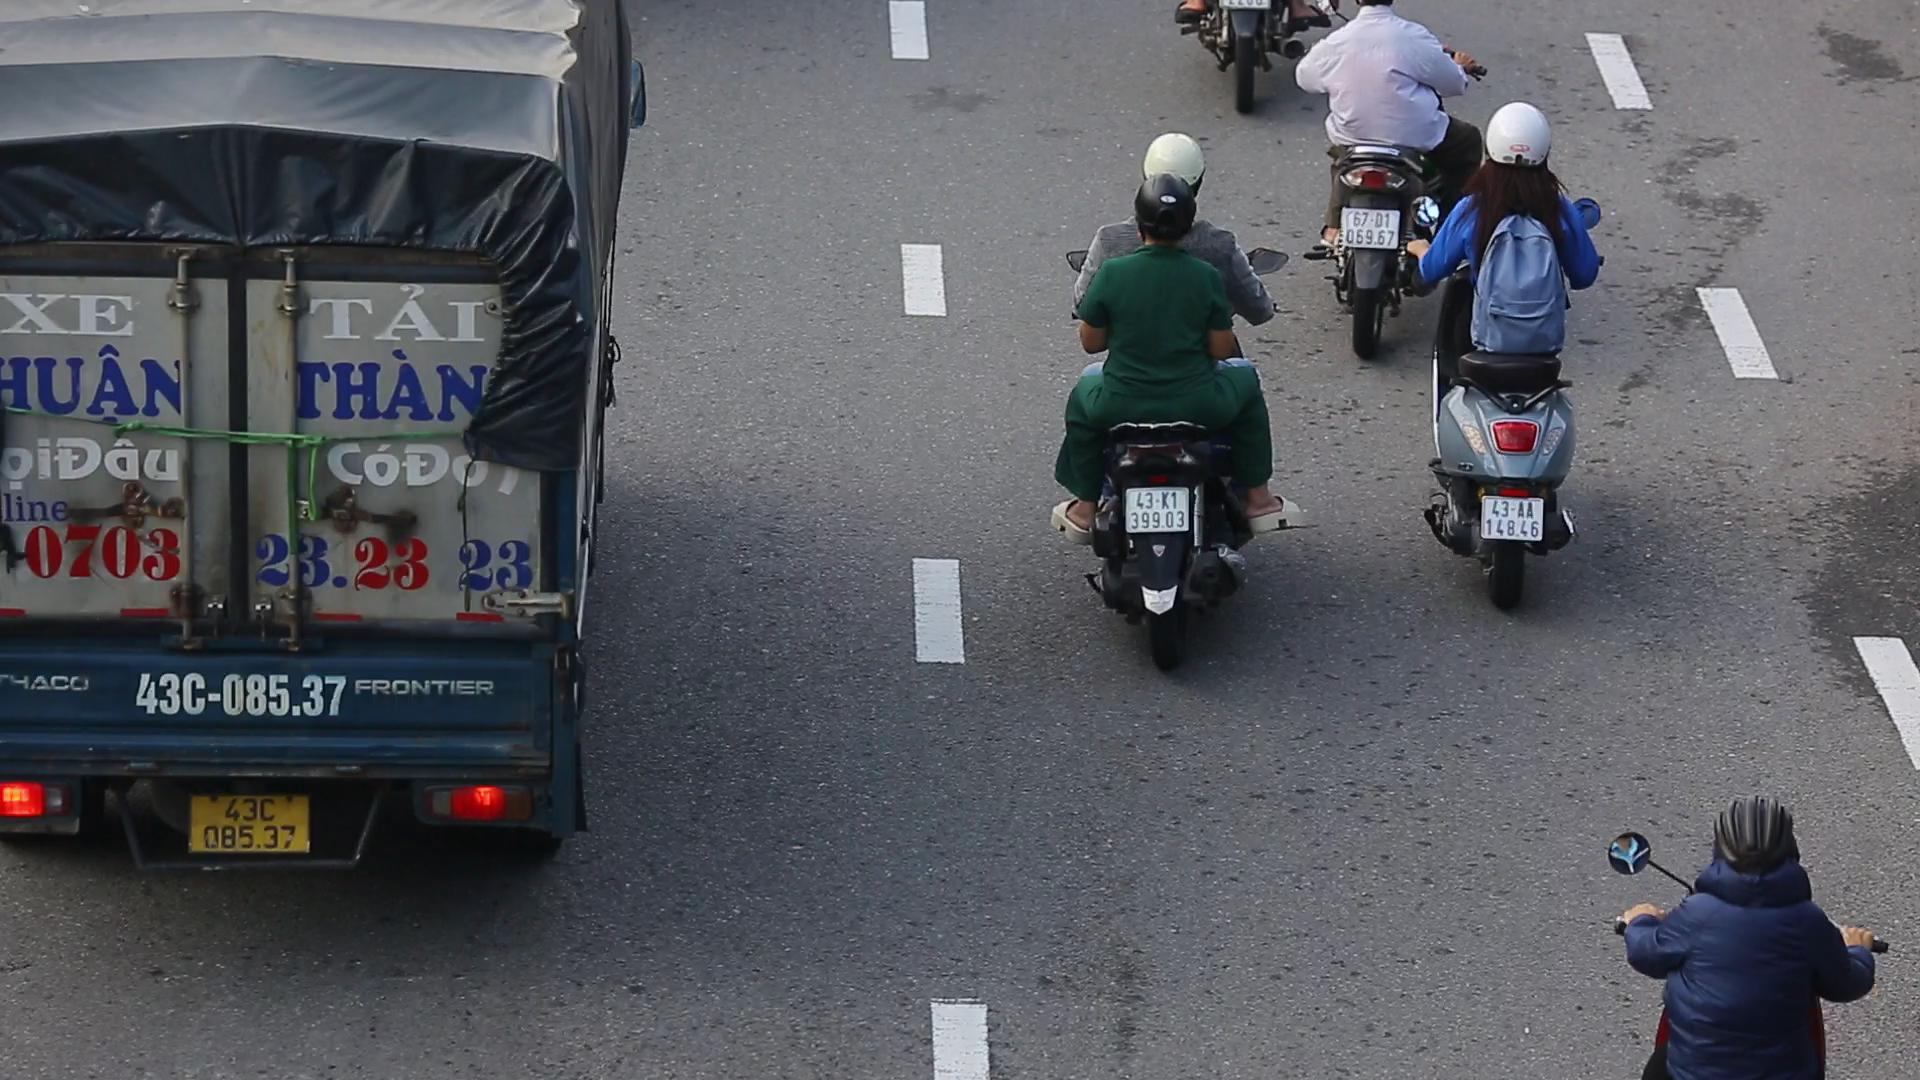motobike: (1063, 128, 1296, 655), (1422, 94, 1615, 607)
